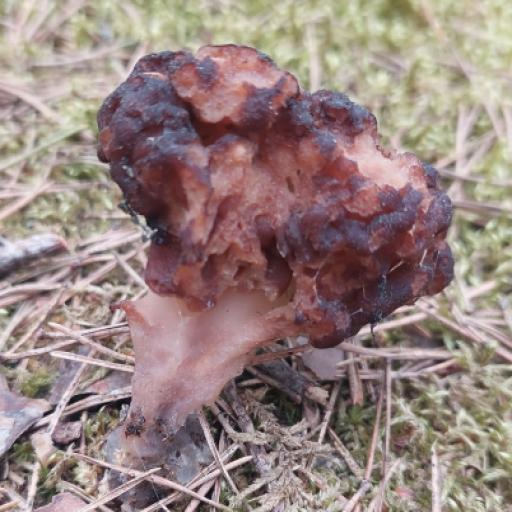mushroom: (90, 36, 465, 386)
